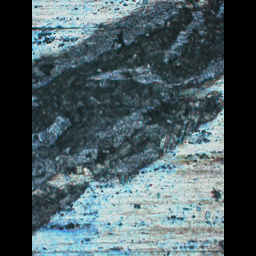d: (32, 0, 224, 243)
